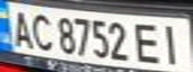2: (106, 18, 133, 63)
5: (90, 17, 112, 60)
7: (69, 15, 93, 57)
8: (51, 12, 75, 55)
A: (6, 7, 36, 50)
C: (27, 10, 57, 52)
E: (130, 19, 166, 65)
I: (157, 20, 190, 65)
